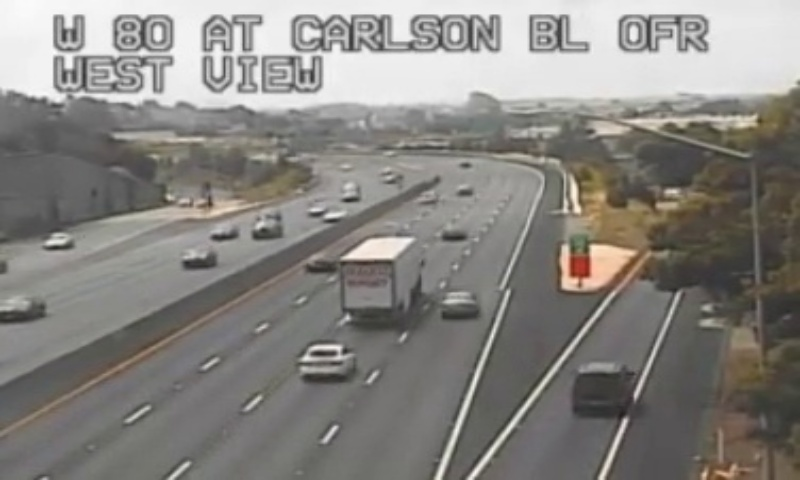car: (572, 362, 629, 411), (297, 342, 353, 377), (440, 290, 476, 317)
truck: (338, 236, 421, 326)
